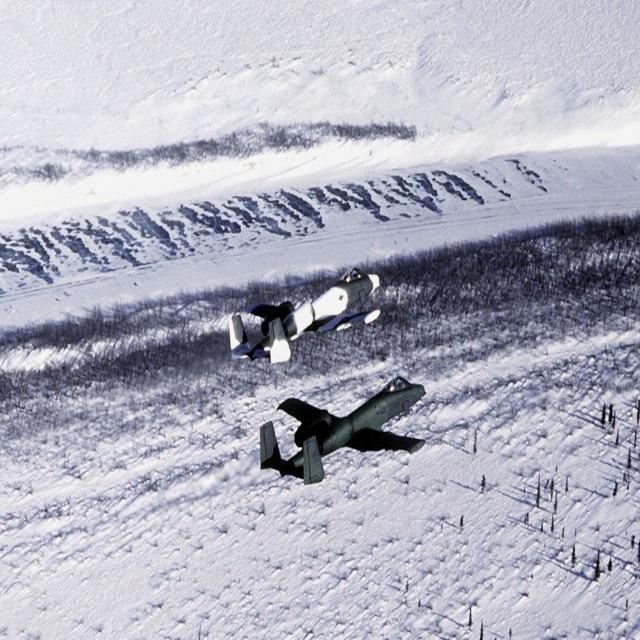MIL_Plane: (259, 376, 427, 486), (229, 266, 383, 364)
